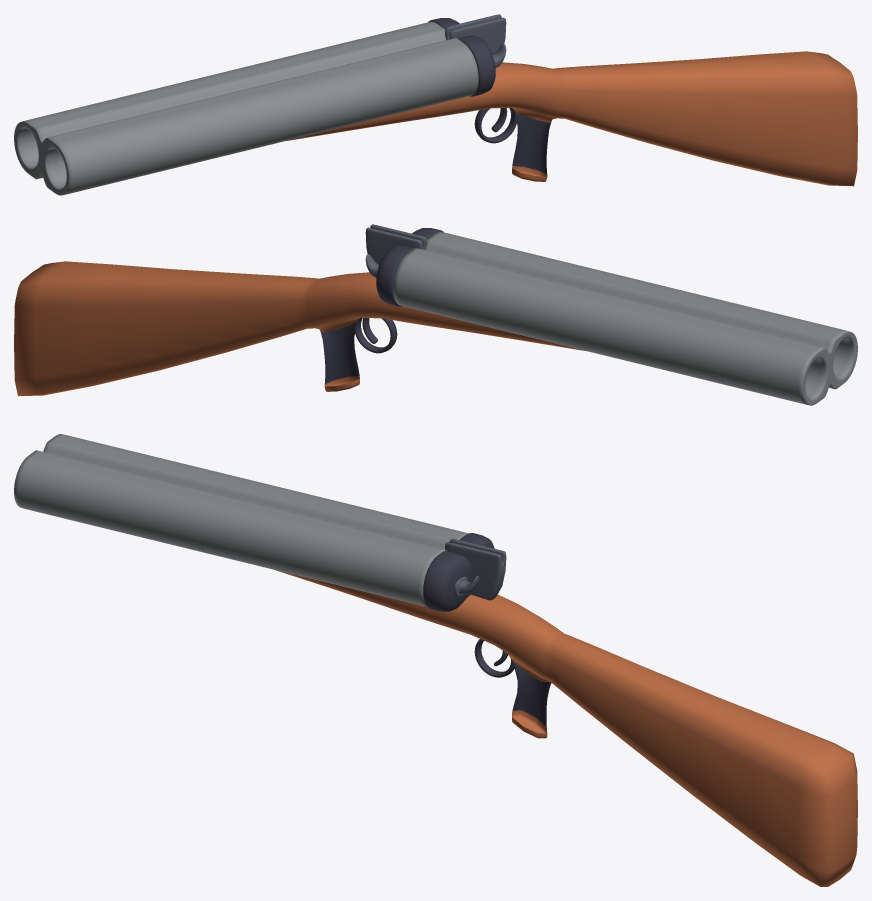
The model's file is dumb-ling-shotgun_01.fbx.
3 renders of one model, top to bottom at view 1: azimuth 30°, elevation 25°; view 2: azimuth 150°, elevation 25°; view 3: azimuth 330°, elevation 25°, orthographic.
Parts seen in each view (by area): view 1: DumblingShotgun_Highpoly; view 2: DumblingShotgun_Highpoly; view 3: DumblingShotgun_Highpoly.
Boxes of the visible parts, x1,y1,x2,y2 form: DumblingShotgun_Highpoly: (14,14,857,195); DumblingShotgun_Highpoly: (14,224,857,405); DumblingShotgun_Highpoly: (14,434,857,886).
Bounding box in the file's own units: 393 × 114 × 48.47.
